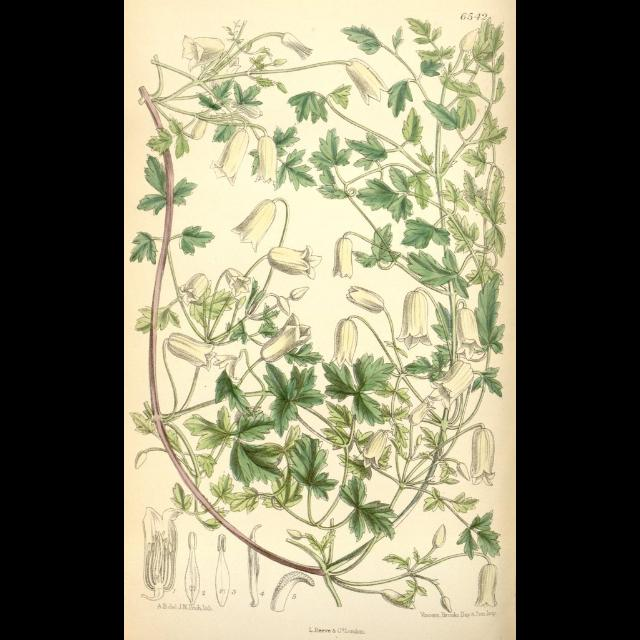Flower: (130, 16, 500, 614)
